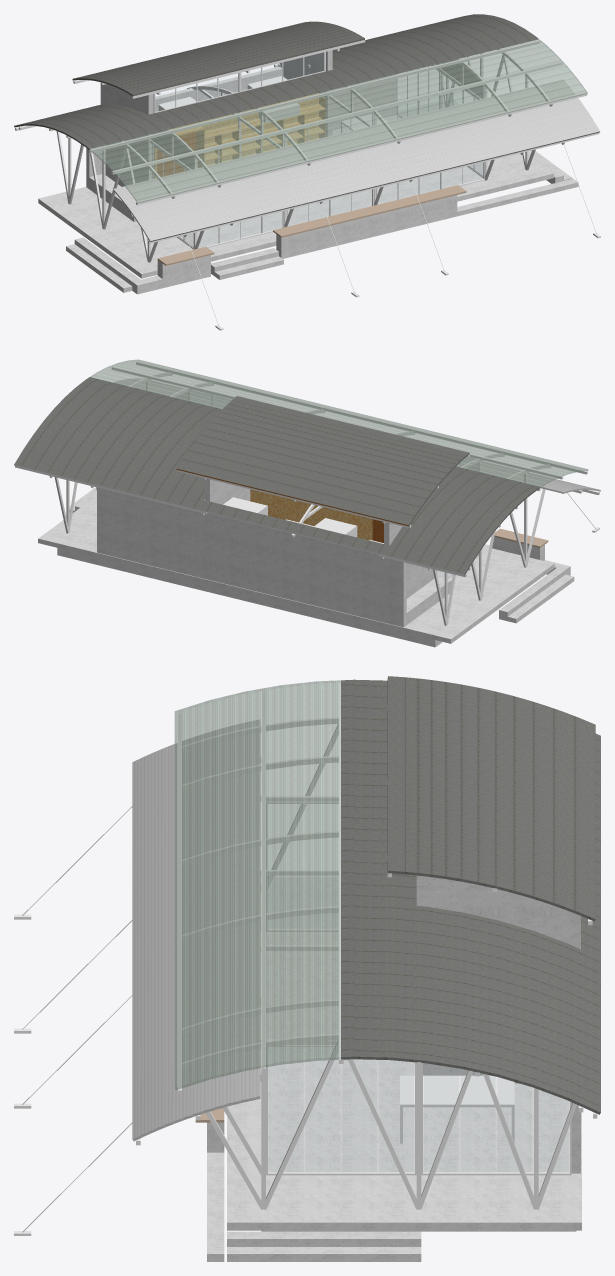
3 views of the same model, one above another, from view 1: azimuth 30°, elevation 25°; view 2: azimuth 150°, elevation 25°; view 3: azimuth 270°, elevation 25° (orthographic). The views are drawn at different scales.
Visible parts, largest first — view 1: Mesh24 Group24 Model, Mesh23 Group23 Model, Mesh75 Group58 Model, Mesh167 Drawing9_dwg1 Model, Mesh72 Group56 Model, Mesh80 Group64 Group63 Group62 Model, Mesh164 Group145 Drawing9_dwg1 Model, Mesh8 Group2 Model, Mesh64 Group48 Model, Mesh90 Group73 Group63 Group62 Model, Mesh87 Group71 Group63 Group62 Model, Mesh82 Group67 Group63 Group62 Model (+15 smaller); view 2: Mesh24 Group24 Model, Mesh167 Drawing9_dwg1 Model, Mesh80 Group64 Group63 Group62 Model, Mesh75 Group58 Model, Mesh23 Group23 Model, Mesh79 Group65 Group64 Group63 Group62 Model, Mesh90 Group73 Group63 Group62 Model, Mesh78 Group61 Model, Mesh10 Group10 Model, Mesh163 Group144 Drawing9_dwg1 Model, Mesh164 Group145 Drawing9_dwg1 Model, Mesh87 Group71 Group63 Group62 Model (+6 smaller); view 3: Mesh24 Group24 Model, Mesh75 Group58 Model, Mesh23 Group23 Model, Mesh167 Drawing9_dwg1 Model, Mesh63 Group47 Model, Mesh163 Group144 Drawing9_dwg1 Model, Mesh1 Group1 Model, Mesh72 Group56 Model, Mesh87 Group71 Group63 Group62 Model, Mesh90 Group73 Group63 Group62 Model, Mesh103 G_3454_1_3 Model, Mesh133 Group115 Group113 Drawing9_dwg1 Model (+12 smaller).
Part boxes in pixels (bbox=[...]): Mesh24 Group24 Model: bbox=[14, 14, 587, 203]; Mesh23 Group23 Model: bbox=[113, 79, 600, 241]; Mesh75 Group58 Model: bbox=[38, 100, 553, 278]; Mesh167 Drawing9_dwg1 Model: bbox=[72, 21, 364, 96]; Mesh72 Group56 Model: bbox=[276, 178, 578, 258]; Mesh80 Group64 Group63 Group62 Model: bbox=[86, 66, 394, 188]; Mesh164 Group145 Drawing9_dwg1 Model: bbox=[100, 82, 153, 186]; Mesh8 Group2 Model: bbox=[198, 97, 325, 167]; Mesh64 Group48 Model: bbox=[273, 185, 466, 237]; Mesh90 Group73 Group63 Group62 Model: bbox=[136, 92, 587, 205]; Mesh87 Group71 Group63 Group62 Model: bbox=[111, 62, 562, 174]; Mesh82 Group67 Group63 Group62 Model: bbox=[89, 40, 539, 153]; Mesh24 Group24 Model: bbox=[14, 359, 588, 575]; Mesh167 Drawing9_dwg1 Model: bbox=[176, 396, 469, 526]; Mesh80 Group64 Group63 Group62 Model: bbox=[97, 487, 406, 627]; Mesh75 Group58 Model: bbox=[38, 496, 554, 647]; Mesh23 Group23 Model: bbox=[114, 378, 600, 493]; Mesh79 Group65 Group64 Group63 Group62 Model: bbox=[250, 489, 372, 540]; Mesh90 Group73 Group63 Group62 Model: bbox=[136, 361, 587, 474]; Mesh78 Group61 Model: bbox=[499, 568, 574, 623]; Mesh10 Group10 Model: bbox=[406, 577, 451, 624]; Mesh163 Group144 Drawing9_dwg1 Model: bbox=[204, 478, 250, 579]; Mesh164 Group145 Drawing9_dwg1 Model: bbox=[384, 522, 436, 620]; Mesh87 Group71 Group63 Group62 Model: bbox=[112, 366, 563, 479]; Mesh24 Group24 Model: bbox=[174, 679, 600, 1114]; Mesh75 Group58 Model: bbox=[227, 877, 581, 1231]; Mesh23 Group23 Model: bbox=[132, 719, 260, 1141]; Mesh167 Drawing9_dwg1 Model: bbox=[387, 676, 595, 921]; Mesh63 Group47 Model: bbox=[227, 1231, 421, 1261]; Mesh163 Group144 Drawing9_dwg1 Model: bbox=[416, 875, 580, 1083]; Mesh1 Group1 Model: bbox=[400, 1075, 514, 1143]; Mesh72 Group56 Model: bbox=[207, 1122, 224, 1261]; Mesh87 Group71 Group63 Group62 Model: bbox=[261, 691, 265, 1072]; Mesh90 Group73 Group63 Group62 Model: bbox=[177, 713, 181, 1094]; Mesh103 G_3454_1_3 Model: bbox=[266, 1045, 416, 1175]; Mesh133 Group115 Group113 Drawing9_dwg1 Model: bbox=[182, 756, 338, 791].
Bounding box in the file's own units: 15585 × 4991 × 10252.
Materials: 12 (7 with a texture image).
